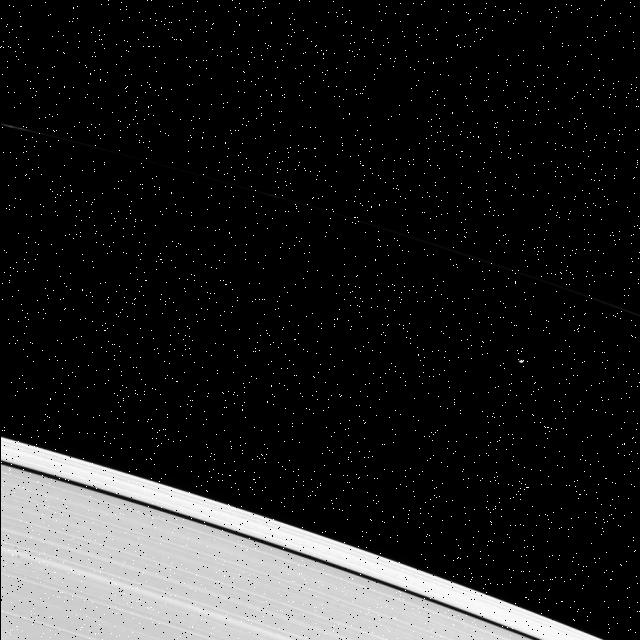Saturn: (0, 432, 621, 640)
